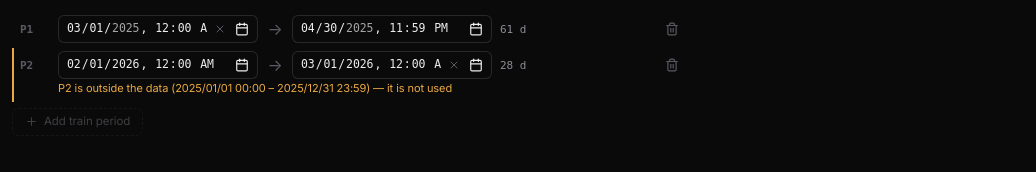
Test: Train period rows against the loaded data › a period that is exactly as it was SAVED and lies outside the data only WARNS: amber edge and sentence, no red field, not an alert — until it is changed
Expected: the text with test id "period-data-note-2" reads "P2 is outside the data (2025/01/01 00:00 – 2025/12/31 23:59) — it is not used", [58, 81, 452, 95]
// moved to another place outside the data: now it is what the user picks — invalid
Replace the text in the field named "P2 end" with "2026-04-01T00:00". click: x=367, y=65
box: [293, 52, 441, 78]
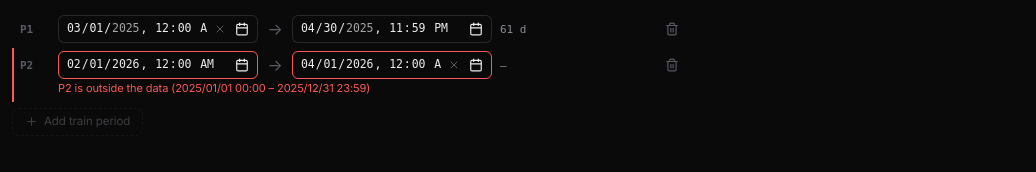
Expected: the message with test id "period-invalid-2" reads "P2 is outside the data (2025/01/01 00:00 – 2025/12/31 23:59)", [58, 81, 370, 95]
Expected: the element with test id "period-row-2" has attribute data-invalid="true", [12, 48, 1035, 102]
// typed back to what was saved: the warning again
Replace the text in the field named "P2 end" with "2026-03-01T00:00". click: x=367, y=65
box: [293, 52, 441, 78]
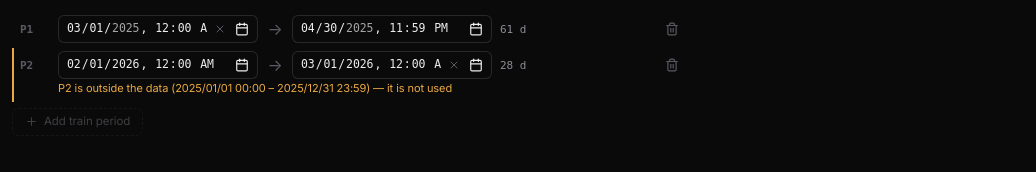
Expected: the message with test id "period-invalid-2" is gone
Expected: the text with test id "period-data-note-2" is shown, [58, 81, 452, 95]
